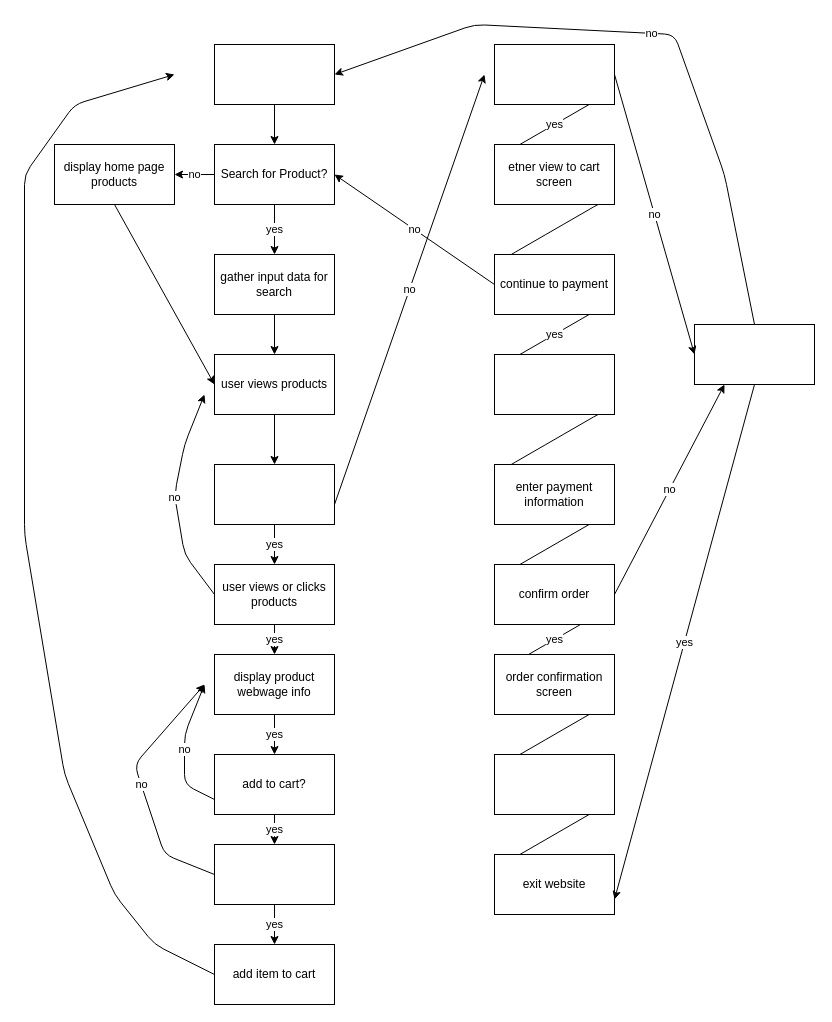
This 832x1022 diagram has some shape labels left out. The shapes that lost their labels are listed below. From the top down, each one's box as (x1, y1, x2, y2) in pixels, then its label:
(214, 44, 334, 104): Enter website
(494, 44, 614, 104): user checks out
(694, 324, 814, 384): user leaves
(494, 354, 614, 414): enter payment screen
(214, 464, 334, 524): user continues shopping
(494, 754, 614, 814): send order confirmation email
(214, 844, 334, 904): confirm added to cart
